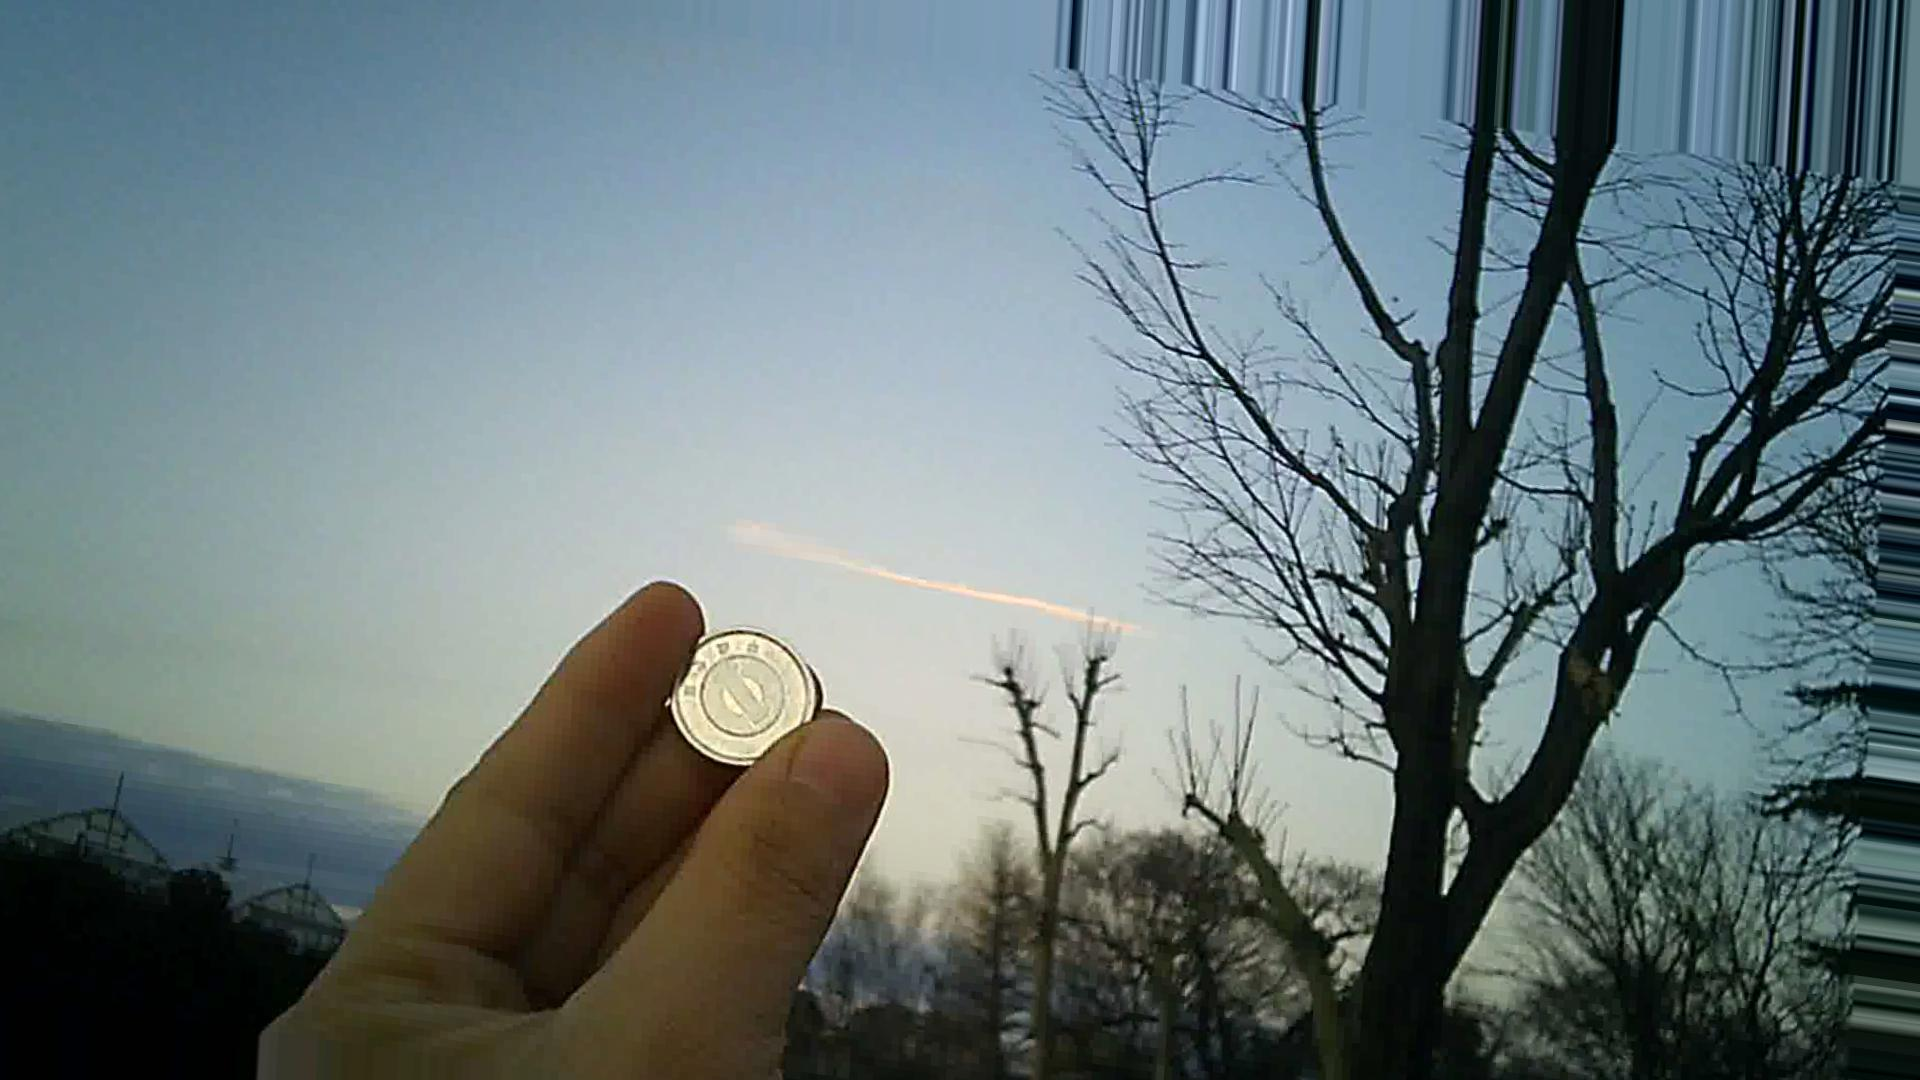1 Yen: (651, 603, 819, 754)
